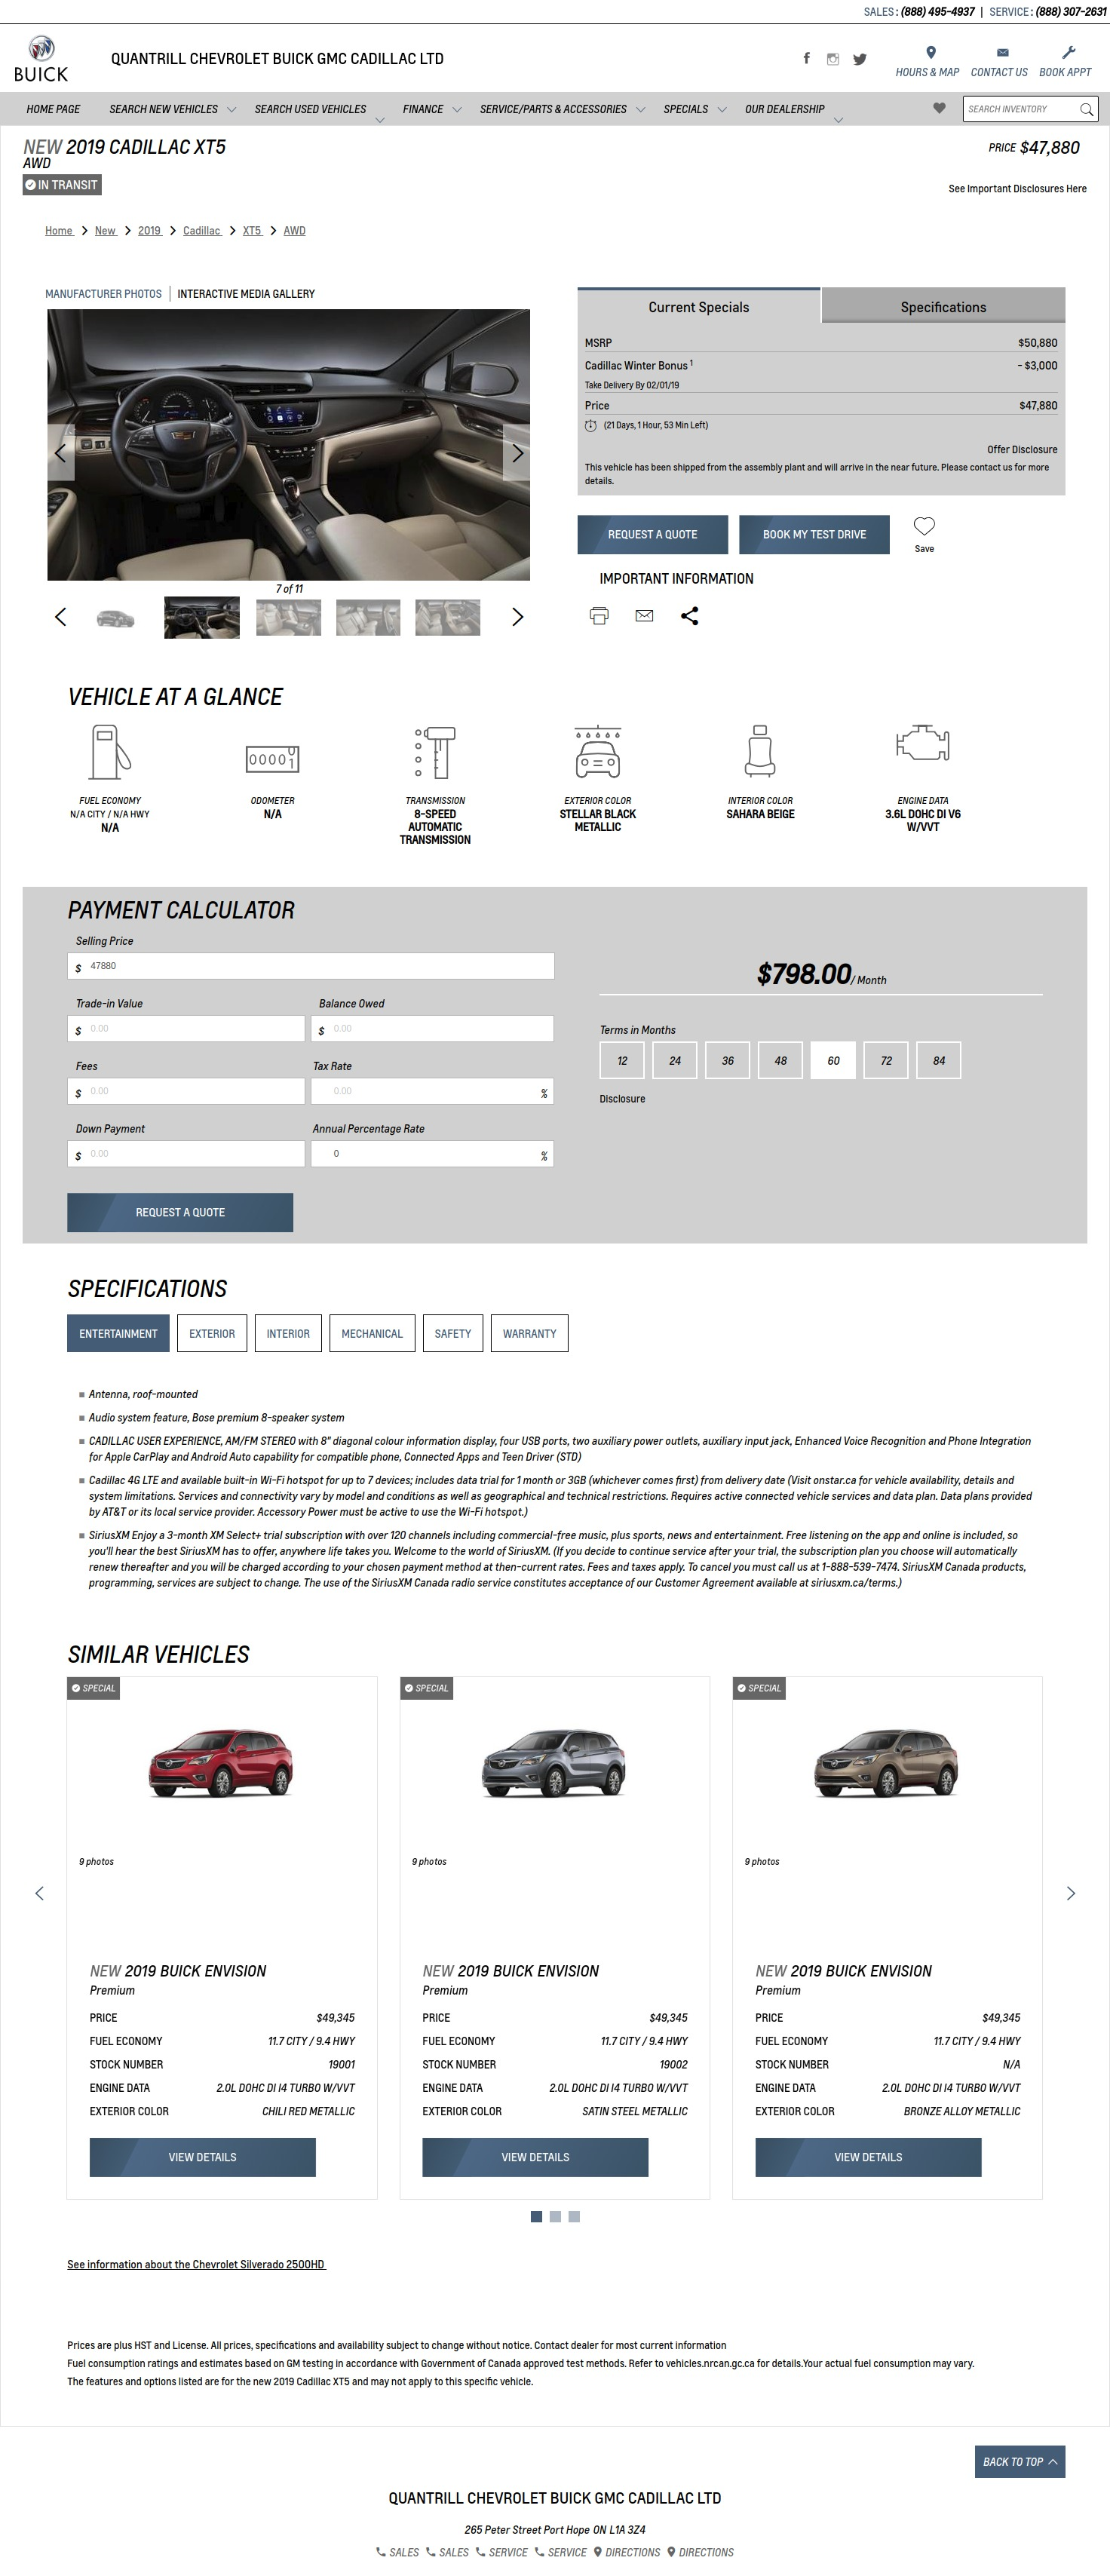car: (512, 608, 524, 628)
